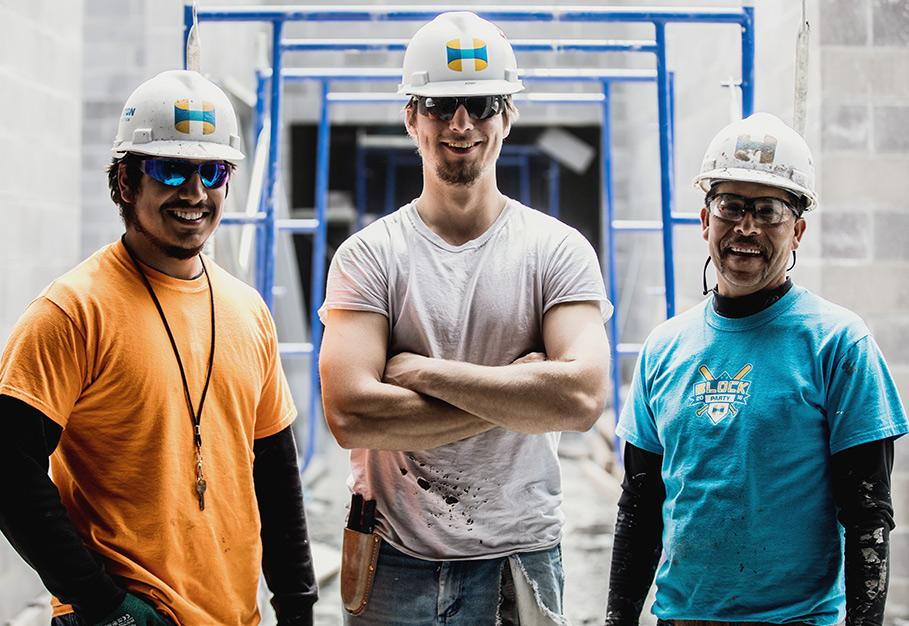helmet: (108, 68, 247, 166), (690, 110, 821, 213), (400, 11, 526, 106)
